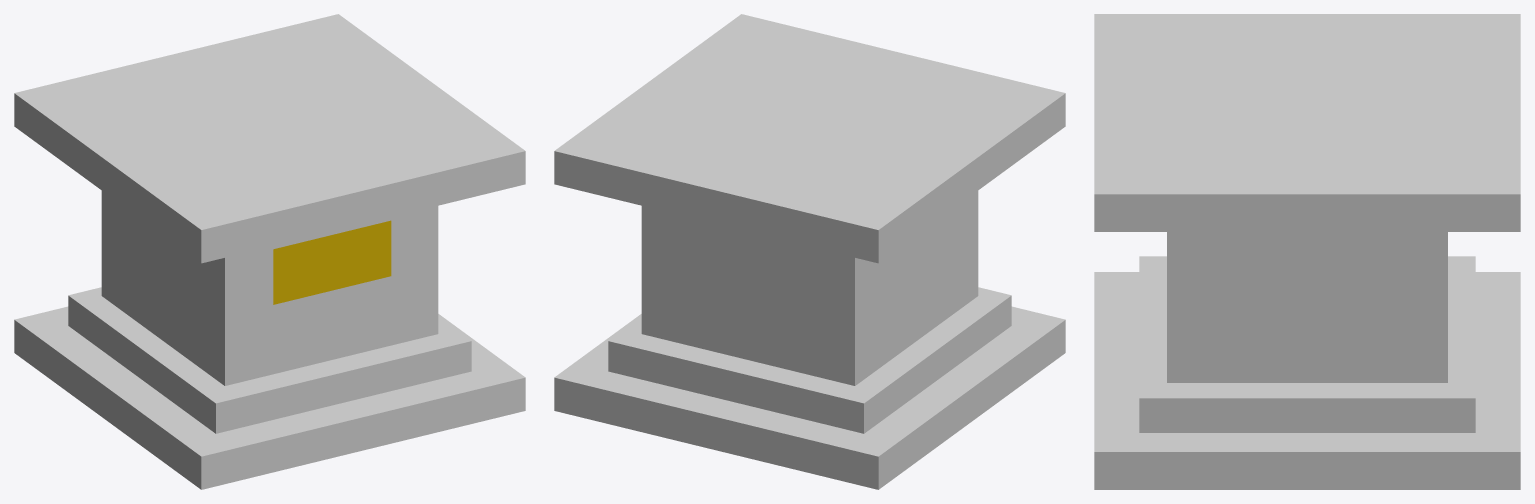
Rendered from Statue Stand.fbx.
3 views of the same model, side by side, from view 1: azimuth 30°, elevation 25°; view 2: azimuth 150°, elevation 25°; view 3: azimuth 270°, elevation 25° (orthographic). The views are drawn at different scales.
Visible parts, largest first — view 1: pasted__pasted__pCube2, pCube1, pasted__pCube2, pCube2, pPlane1; view 2: pasted__pasted__pCube2, pCube1, pasted__pCube2, pCube2; view 3: pasted__pasted__pCube2, pCube1, pasted__pCube2, pCube2.
Part boxes in pixels (x1,y1,x2,y2): pasted__pasted__pCube2: [14, 14, 525, 263]; pCube1: [101, 191, 438, 385]; pasted__pCube2: [14, 306, 525, 489]; pCube2: [68, 287, 471, 433]; pPlane1: [273, 220, 391, 304]; pasted__pasted__pCube2: [554, 14, 1065, 263]; pCube1: [641, 191, 978, 385]; pasted__pCube2: [554, 306, 1065, 489]; pCube2: [608, 287, 1011, 433]; pasted__pasted__pCube2: [1094, 14, 1520, 231]; pCube1: [1167, 232, 1447, 382]; pasted__pCube2: [1094, 272, 1520, 489]; pCube2: [1139, 256, 1475, 432].
Bounding box in the file's own units: 4.31 × 3.3 × 4.31.
